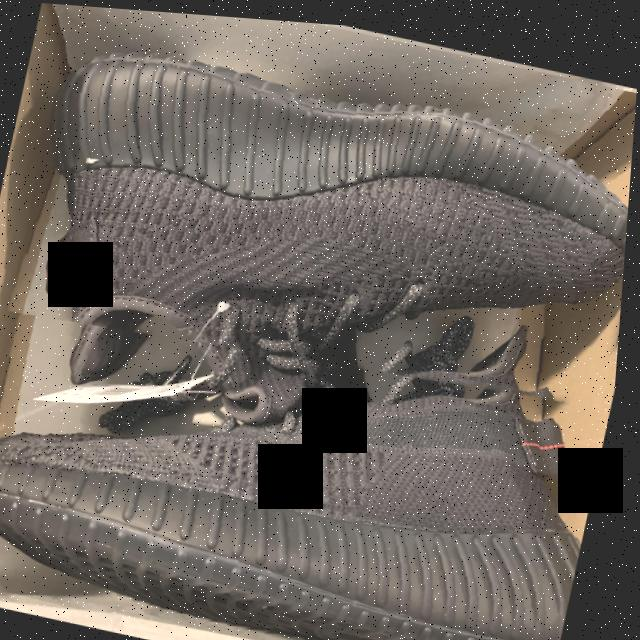shoe: (7, 2, 640, 431), (0, 255, 624, 640)
